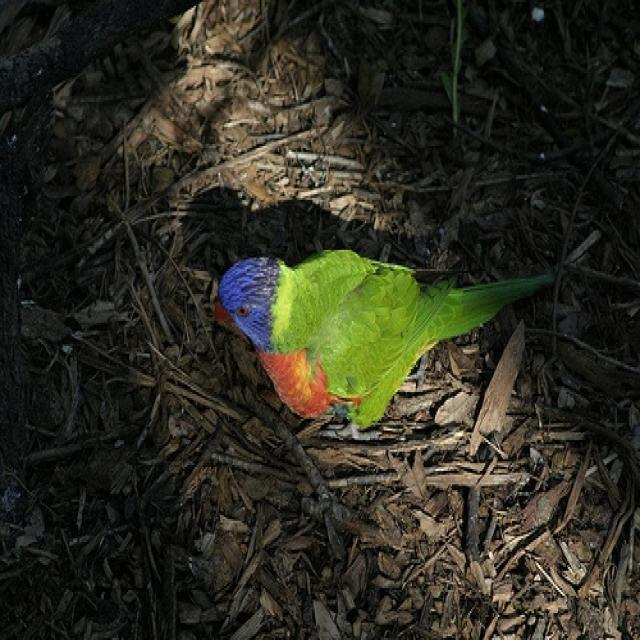bird: (204, 248, 556, 444)
